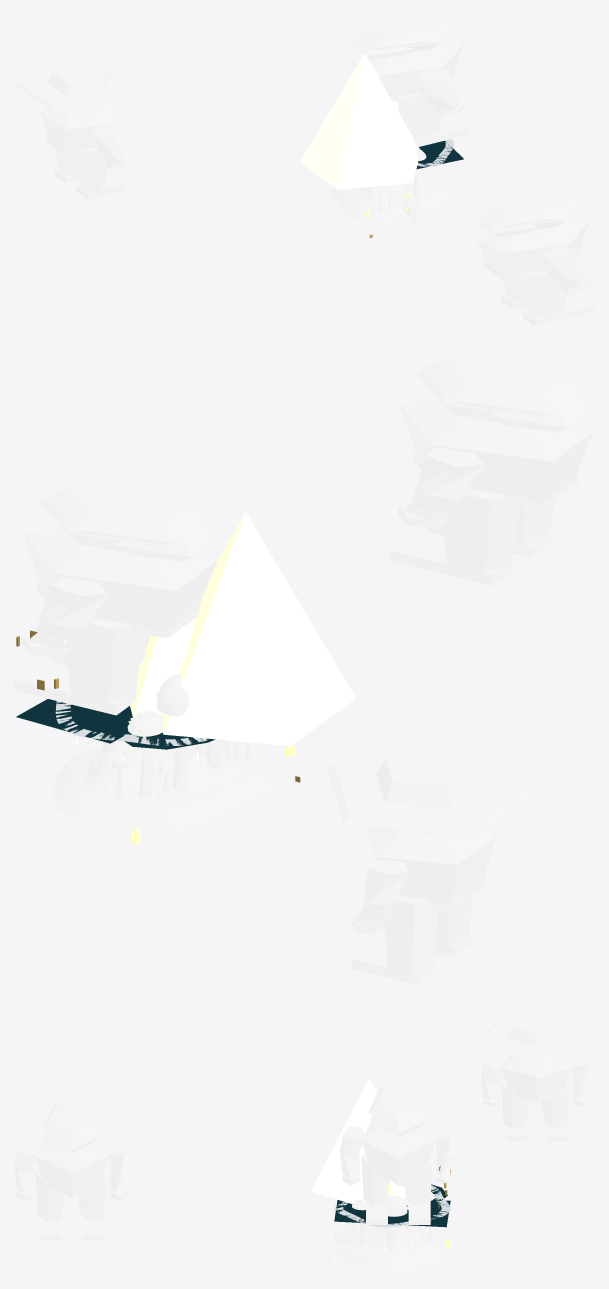
Rendered from ile-champignons-v5-leger.glb.
3 renders of one model, top to bottom at view 1: azimuth 30°, elevation 25°; view 2: azimuth 150°, elevation 25°; view 3: azimuth 270°, elevation 25°, orthographic. The views are drawn at different scales.
Visible parts, largest first — view 1: ile_anime0.008, ile_anime2.008, ile_anime1.008, ile_libre0.006, ile_corps.008, ile_libre1.002; view 2: ile_anime0.008, ile_anime1.008, ile_anime2.008, ile_libre0.006, ile_corps.008, ile_libre1.002; view 3: ile_anime2.008, ile_anime0.008, ile_anime1.008, ile_corps.008, ile_libre0.006, ile_libre1.002.
Boxes of the visible parts, box(x1,y1,x2,y2) form: ile_anime0.008: box(475, 191, 594, 326); ile_anime2.008: box(14, 58, 139, 199); ile_anime1.008: box(350, 14, 469, 147); ile_libre0.006: box(300, 53, 419, 189); ile_corps.008: box(330, 148, 454, 226); ile_libre1.002: box(416, 139, 463, 169); ile_anime0.008: box(390, 355, 594, 586); ile_anime1.008: box(14, 484, 218, 715); ile_anime2.008: box(326, 744, 541, 984); ile_libre0.006: box(130, 512, 355, 745); ile_corps.008: box(52, 635, 278, 834); ile_libre1.002: box(16, 699, 215, 749); ile_anime2.008: box(479, 1013, 594, 1141); ile_anime0.008: box(14, 1102, 130, 1240); ile_anime1.008: box(340, 1087, 456, 1224); ile_corps.008: box(334, 1179, 450, 1274); ile_libre0.006: box(311, 1078, 407, 1204); ile_libre1.002: box(334, 1184, 450, 1227).
Size of the model in its own units: 6.69 by 3.13 by 9.98.
